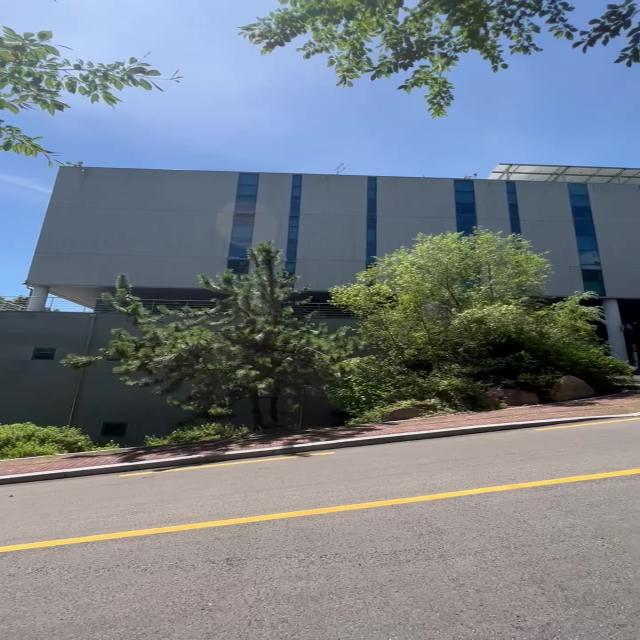building: (37, 139, 640, 293)
